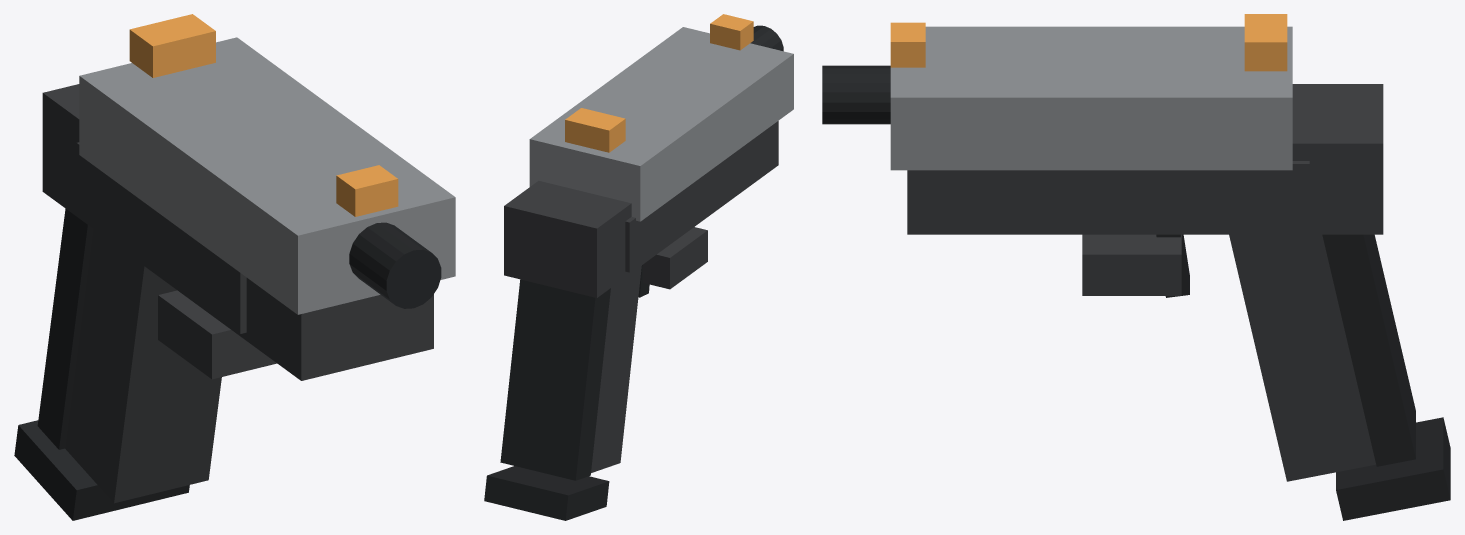
Rendered from wpn_a1_compact_sidearm_01.glb.
3 renders of one model, left to right at view 1: azimuth 30°, elevation 25°; view 2: azimuth 150°, elevation 25°; view 3: azimuth 270°, elevation 25°, orthographic. The views are drawn at different scales.
Parts seen in each view (by area): view 1: wpn_a1_compact_sidearm_01_lod0_slide, wpn_a1_compact_sidearm_01_lod0_grip, wpn_a1_compact_sidearm_01_lod1_blockout, wpn_a1_compact_sidearm_01_lod0_frame, wpn_a1_compact_sidearm_01_lod0_grip_backstrap, wpn_a1_compact_sidearm_01_lod0_front_opening, wpn_a1_compact_sidearm_01_lod0_trigger_guard, wpn_a1_compact_sidearm_01_lod0_base_plate, wpn_a1_compact_sidearm_01_lod0_rear_sight, wpn_a1_compact_sidearm_01_lod0_front_sight; view 2: wpn_a1_compact_sidearm_01_lod0_slide, wpn_a1_compact_sidearm_01_lod0_grip_backstrap, wpn_a1_compact_sidearm_01_lod1_blockout, wpn_a1_compact_sidearm_01_lod0_grip, wpn_a1_compact_sidearm_01_lod0_frame, wpn_a1_compact_sidearm_01_lod0_base_plate, wpn_a1_compact_sidearm_01_lod0_trigger_guard, wpn_a1_compact_sidearm_01_lod0_rear_sight, wpn_a1_compact_sidearm_01_lod0_front_sight, wpn_a1_compact_sidearm_01_lod0_front_opening; view 3: wpn_a1_compact_sidearm_01_lod0_slide, wpn_a1_compact_sidearm_01_lod0_grip, wpn_a1_compact_sidearm_01_lod1_blockout, wpn_a1_compact_sidearm_01_lod0_frame, wpn_a1_compact_sidearm_01_lod0_grip_backstrap, wpn_a1_compact_sidearm_01_lod0_base_plate, wpn_a1_compact_sidearm_01_lod0_trigger_guard, wpn_a1_compact_sidearm_01_lod0_front_opening, wpn_a1_compact_sidearm_01_lod0_rear_sight, wpn_a1_compact_sidearm_01_lod0_front_sight.
Boxes of the visible parts, bbox=[...] form: wpn_a1_compact_sidearm_01_lod0_slide: bbox=[79, 37, 455, 314]; wpn_a1_compact_sidearm_01_lod0_grip: bbox=[65, 229, 221, 503]; wpn_a1_compact_sidearm_01_lod1_blockout: bbox=[42, 84, 433, 380]; wpn_a1_compact_sidearm_01_lod0_frame: bbox=[76, 142, 246, 333]; wpn_a1_compact_sidearm_01_lod0_grip_backstrap: bbox=[37, 208, 93, 449]; wpn_a1_compact_sidearm_01_lod0_front_opening: bbox=[349, 222, 441, 308]; wpn_a1_compact_sidearm_01_lod0_trigger_guard: bbox=[158, 290, 276, 379]; wpn_a1_compact_sidearm_01_lod0_base_plate: bbox=[14, 420, 189, 520]; wpn_a1_compact_sidearm_01_lod0_rear_sight: bbox=[129, 14, 215, 77]; wpn_a1_compact_sidearm_01_lod0_front_sight: bbox=[336, 165, 398, 216]; wpn_a1_compact_sidearm_01_lod0_slide: bbox=[529, 27, 793, 221]; wpn_a1_compact_sidearm_01_lod0_grip_backstrap: bbox=[500, 279, 610, 480]; wpn_a1_compact_sidearm_01_lod1_blockout: bbox=[504, 121, 778, 297]; wpn_a1_compact_sidearm_01_lod0_grip: bbox=[591, 265, 641, 472]; wpn_a1_compact_sidearm_01_lod0_frame: bbox=[625, 146, 744, 272]; wpn_a1_compact_sidearm_01_lod0_base_plate: bbox=[484, 466, 609, 520]; wpn_a1_compact_sidearm_01_lod0_trigger_guard: bbox=[643, 227, 707, 289]; wpn_a1_compact_sidearm_01_lod0_rear_sight: bbox=[565, 108, 625, 152]; wpn_a1_compact_sidearm_01_lod0_front_sight: bbox=[710, 14, 753, 50]; wpn_a1_compact_sidearm_01_lod0_front_opening: bbox=[750, 25, 783, 51]; wpn_a1_compact_sidearm_01_lod0_slide: bbox=[890, 26, 1292, 170]; wpn_a1_compact_sidearm_01_lod0_grip: bbox=[1229, 234, 1375, 481]; wpn_a1_compact_sidearm_01_lod1_blockout: bbox=[907, 84, 1383, 234]; wpn_a1_compact_sidearm_01_lod0_frame: bbox=[1008, 161, 1309, 229]; wpn_a1_compact_sidearm_01_lod0_grip_backstrap: bbox=[1322, 234, 1415, 466]; wpn_a1_compact_sidearm_01_lod0_base_plate: bbox=[1336, 417, 1450, 520]; wpn_a1_compact_sidearm_01_lod0_trigger_guard: bbox=[1082, 234, 1181, 295]; wpn_a1_compact_sidearm_01_lod0_front_opening: bbox=[822, 65, 890, 124]; wpn_a1_compact_sidearm_01_lod0_rear_sight: bbox=[1244, 14, 1287, 71]; wpn_a1_compact_sidearm_01_lod0_front_sight: bbox=[890, 22, 925, 67].
Size of the model in its own units: 0.125 by 0.3842 by 0.4688.
